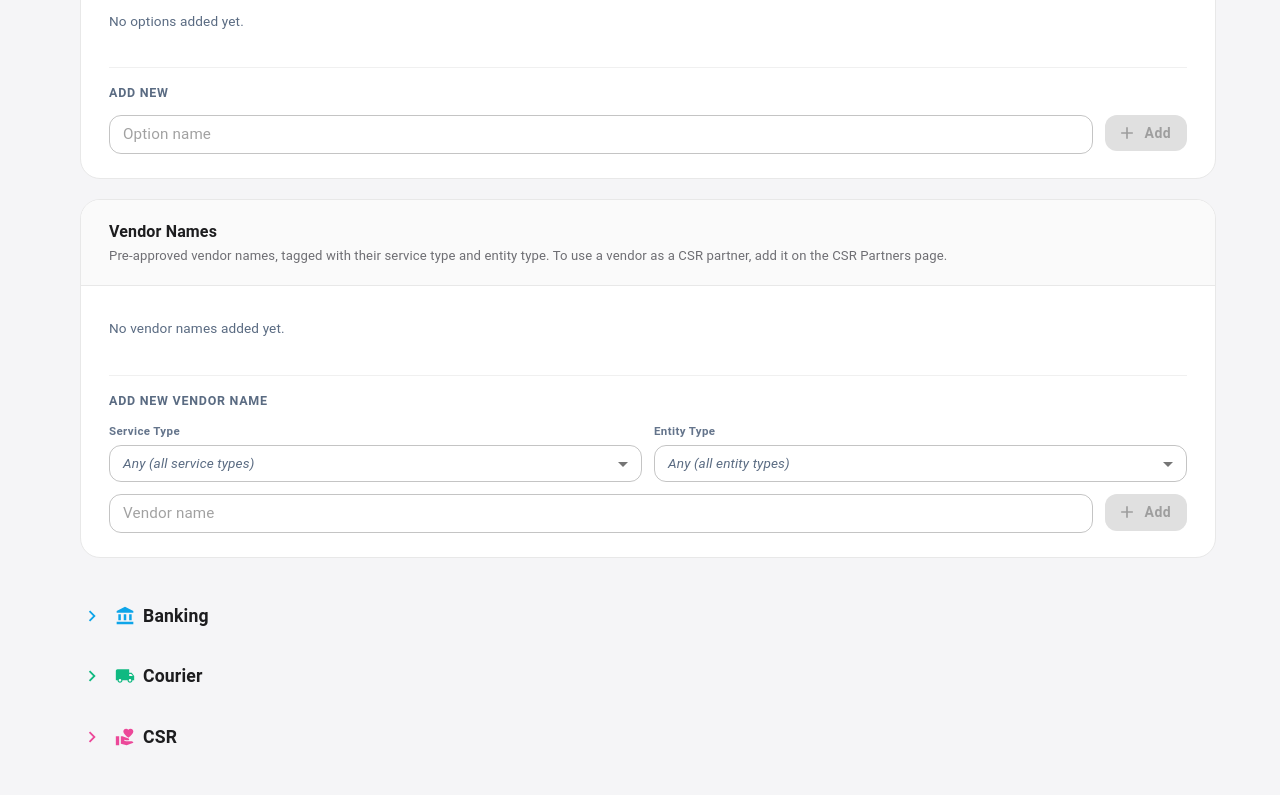
Test: renaming a type goes through the backend rename and names grants
(page scrolled)
Click the text "CSR".
click(160, 737)  # box [143, 724, 177, 750]
(page scrolled)
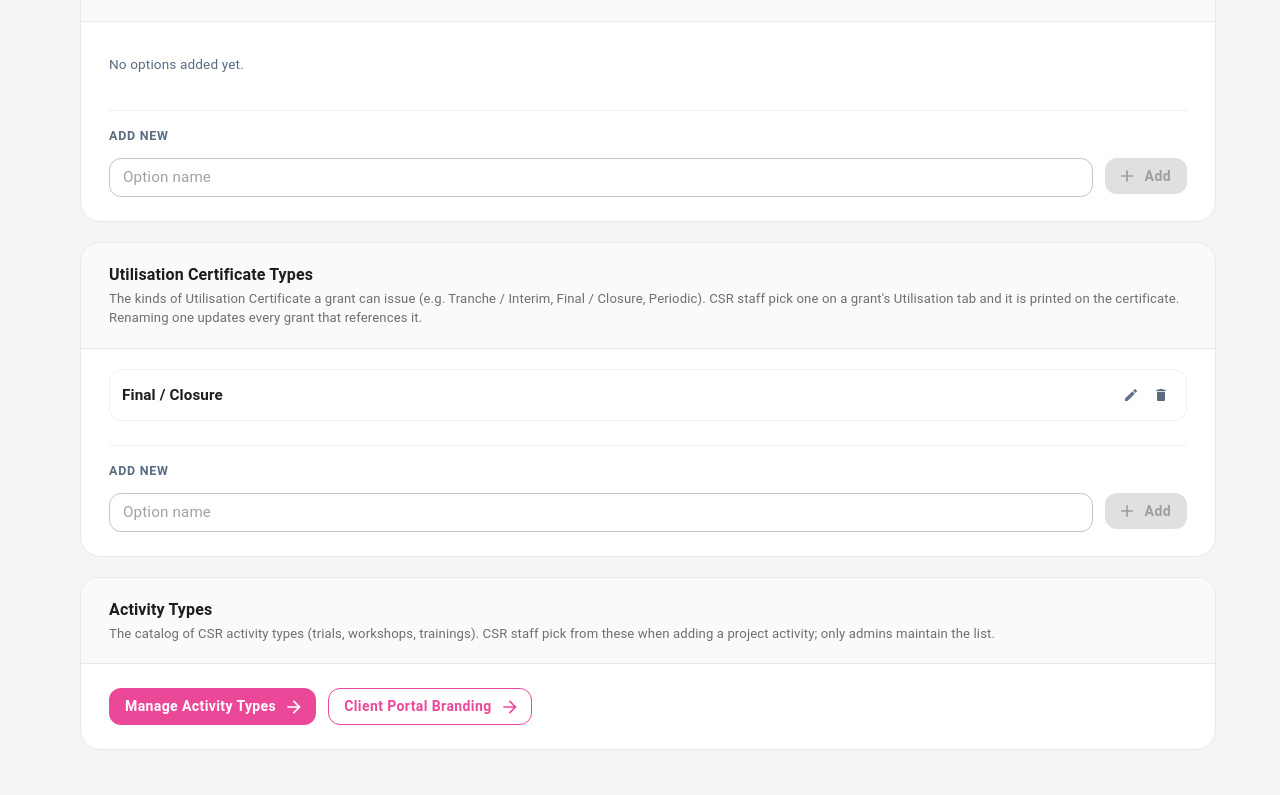
expect the text "Final / Closure" is shown: met, box [122, 384, 223, 406]
Click the button named "Edit".
click(1131, 395)  # box [1118, 382, 1144, 408]
(page scrolled)
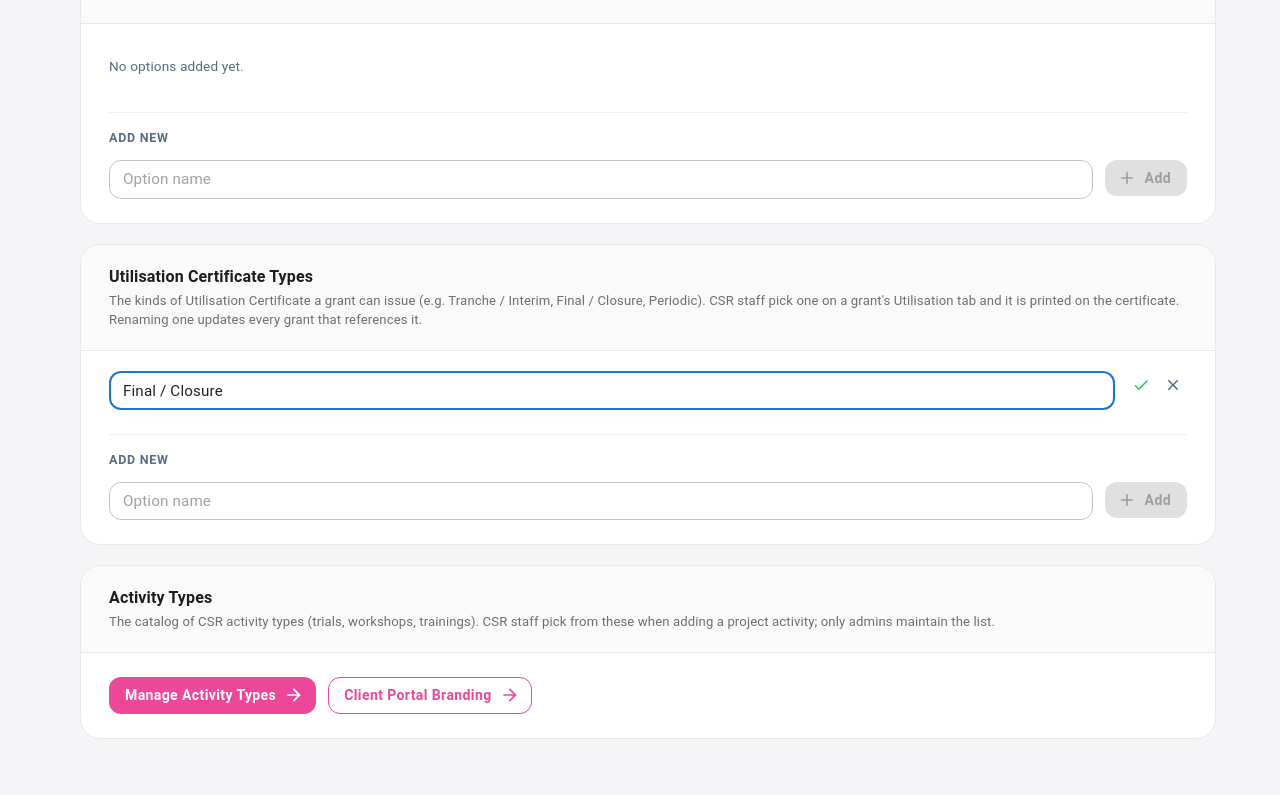
Replace the text in the field showing "Final / Closure" with "Closure" at (612, 390), box [109, 371, 1115, 410]
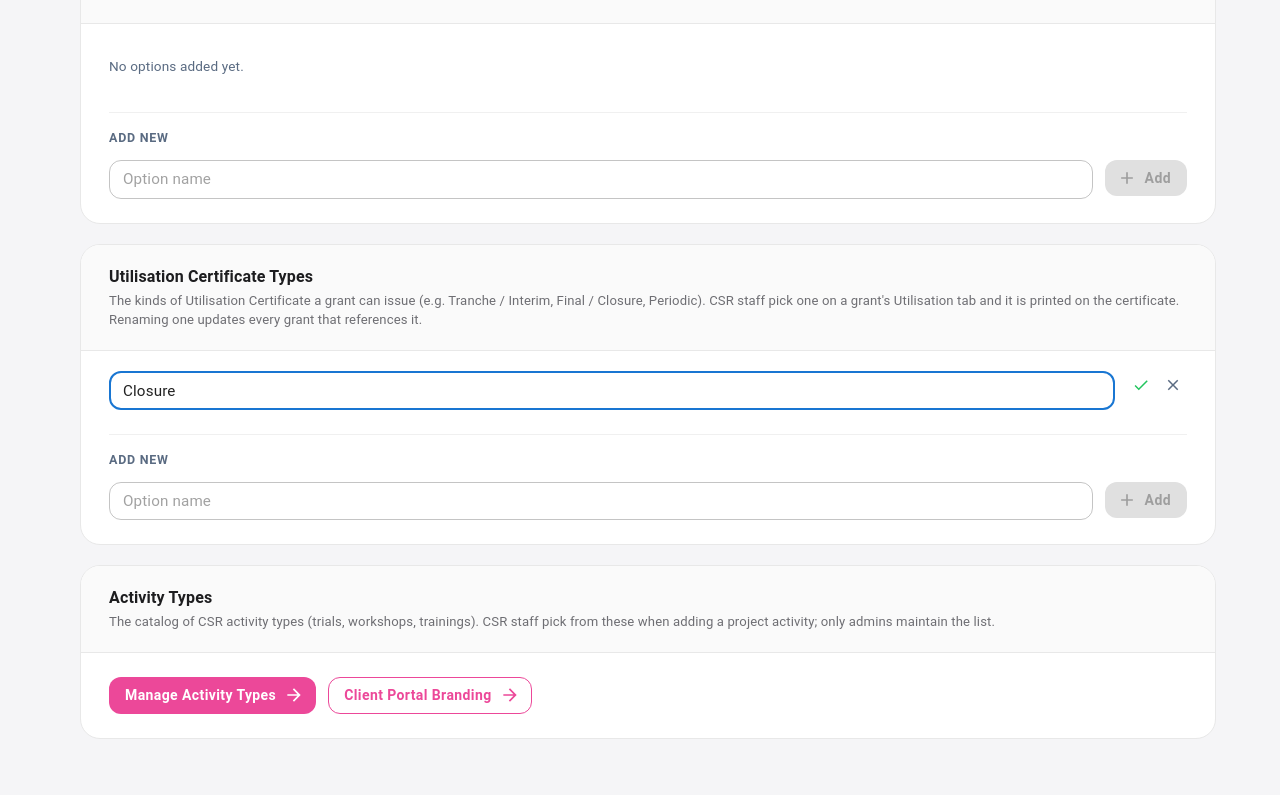
Click the button named "Save".
click(1141, 385)  # box [1127, 371, 1155, 399]
(page scrolled)
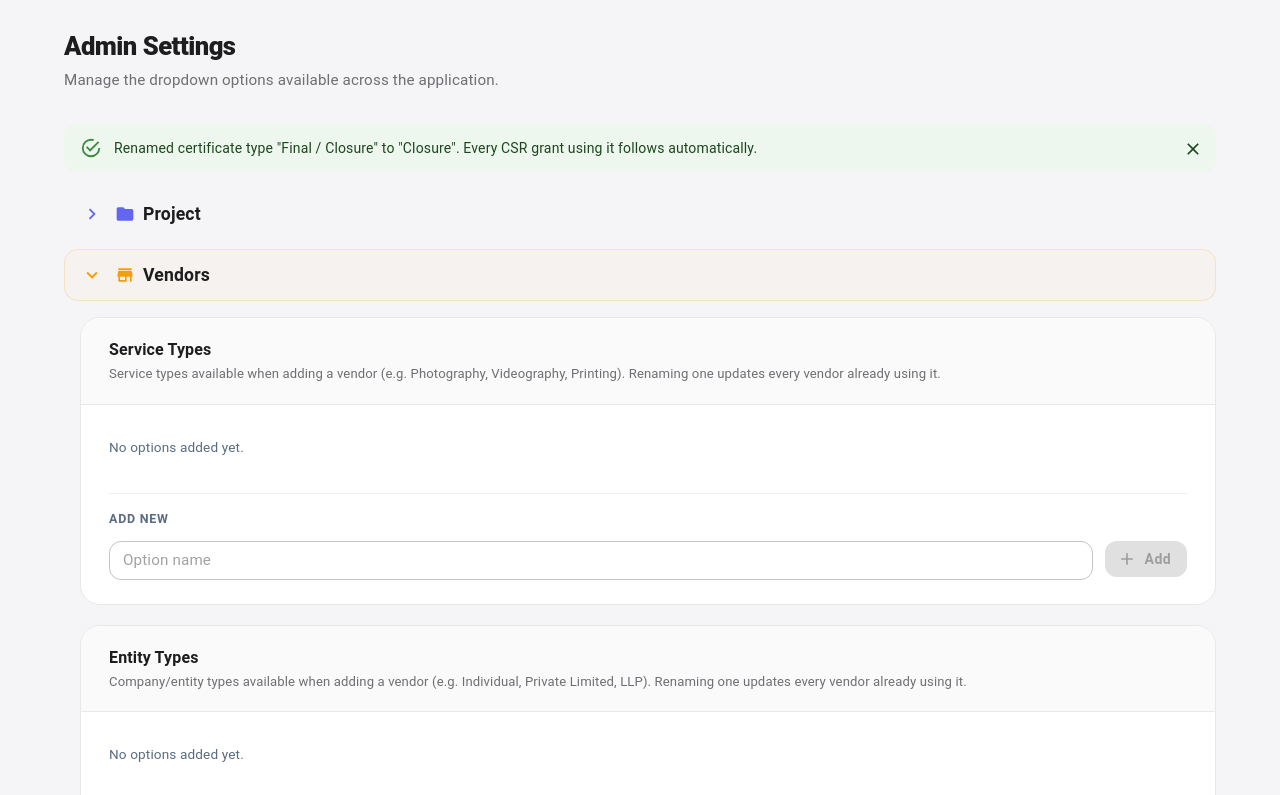
expect the text "Every CSR grant using it follows automatically" is shown: met, box [114, 140, 757, 156]
